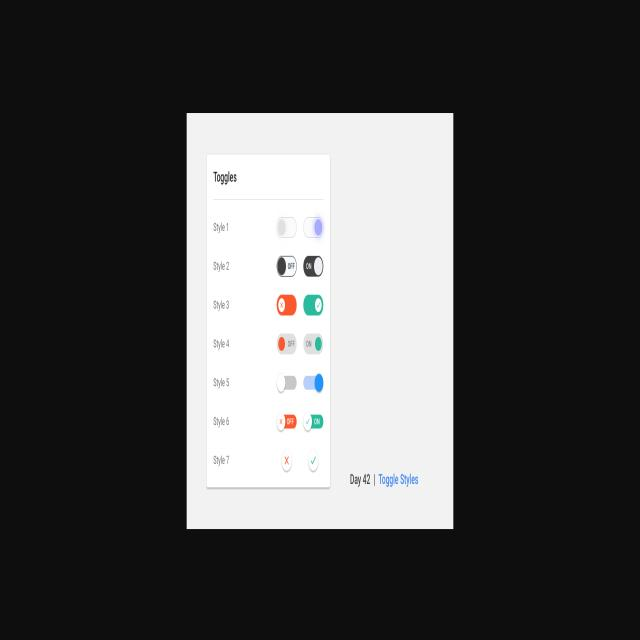checkbox: (307, 448, 319, 472)
toggle: (302, 330, 326, 355), (302, 291, 324, 317), (276, 329, 298, 355), (302, 214, 324, 239), (303, 252, 324, 278), (274, 371, 298, 393), (276, 215, 297, 240), (277, 253, 297, 278), (275, 294, 297, 316), (275, 412, 298, 432), (303, 371, 323, 393), (304, 412, 325, 431)
